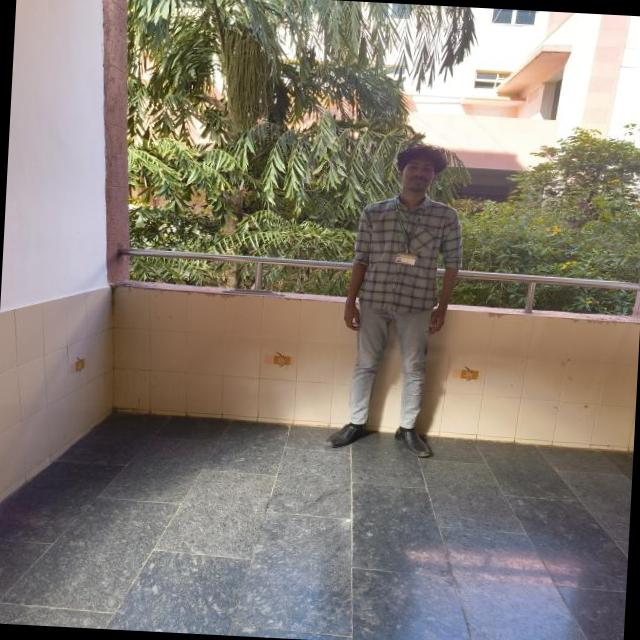id_card: (389, 196, 422, 267)
